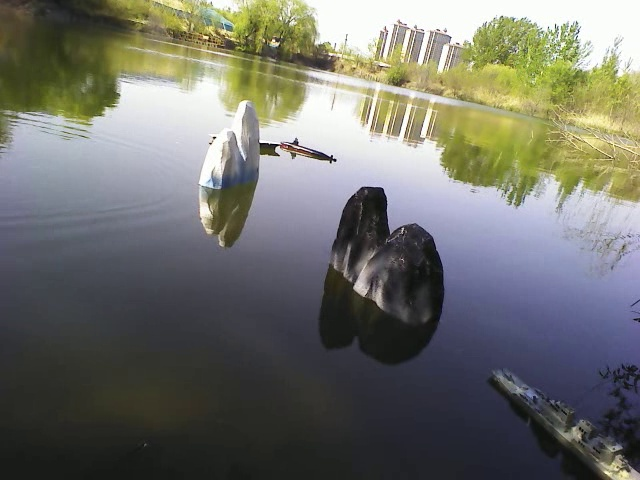iceberg: (198, 97, 269, 193)
rock: (326, 183, 453, 330)
submarine: (280, 135, 338, 163)
warship: (486, 363, 633, 474)
